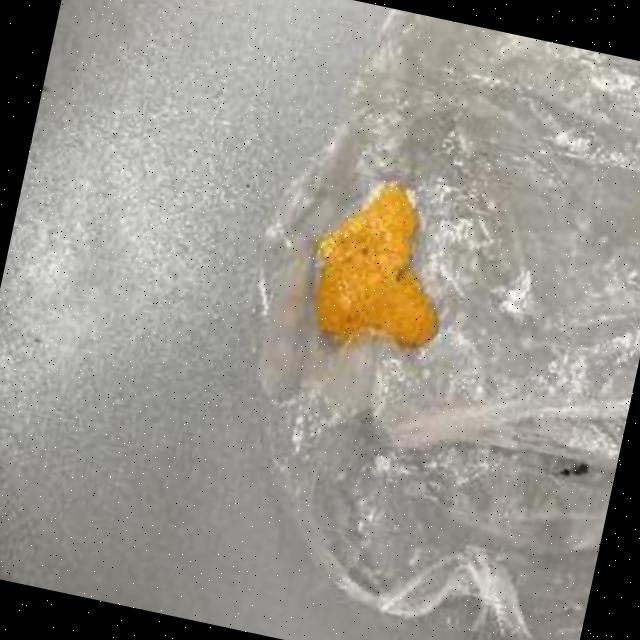orange-peel: (292, 162, 469, 364)
